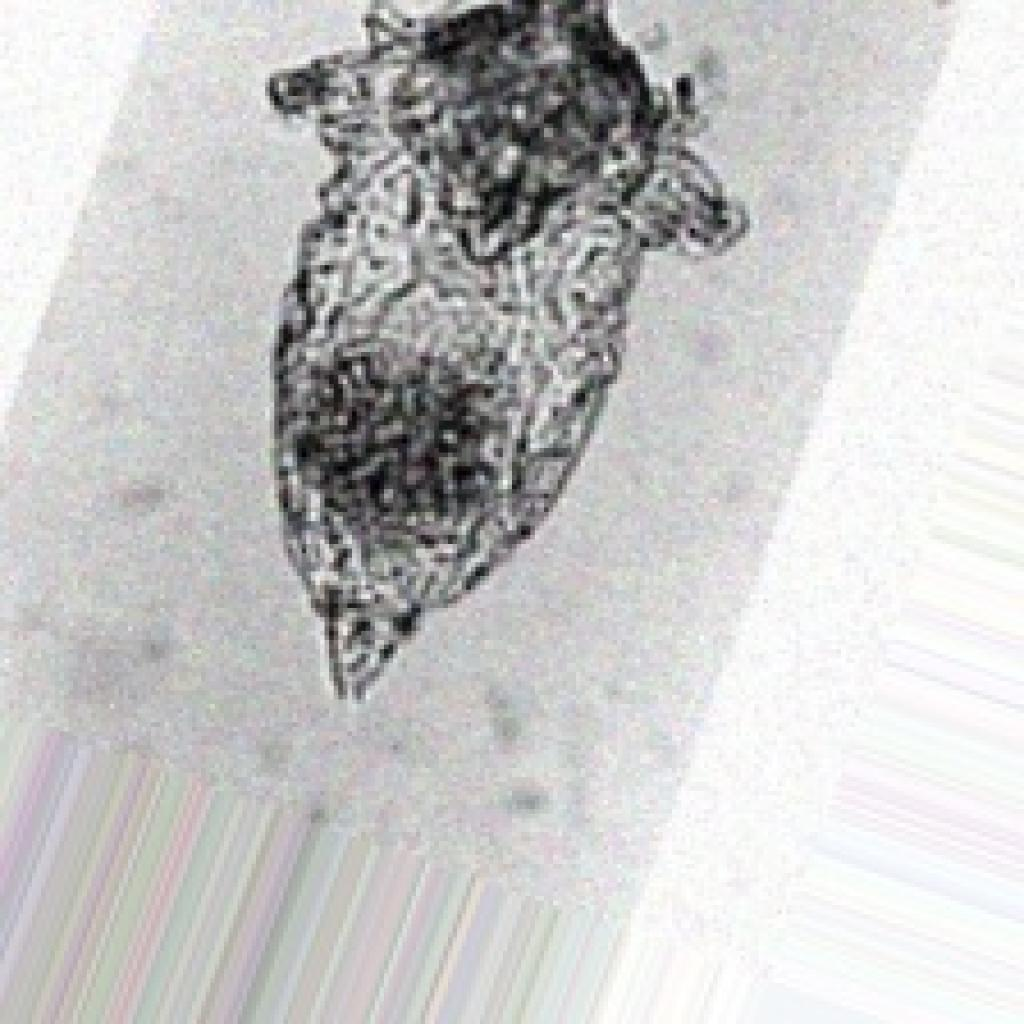Rotifer: (256, 0, 750, 704)
